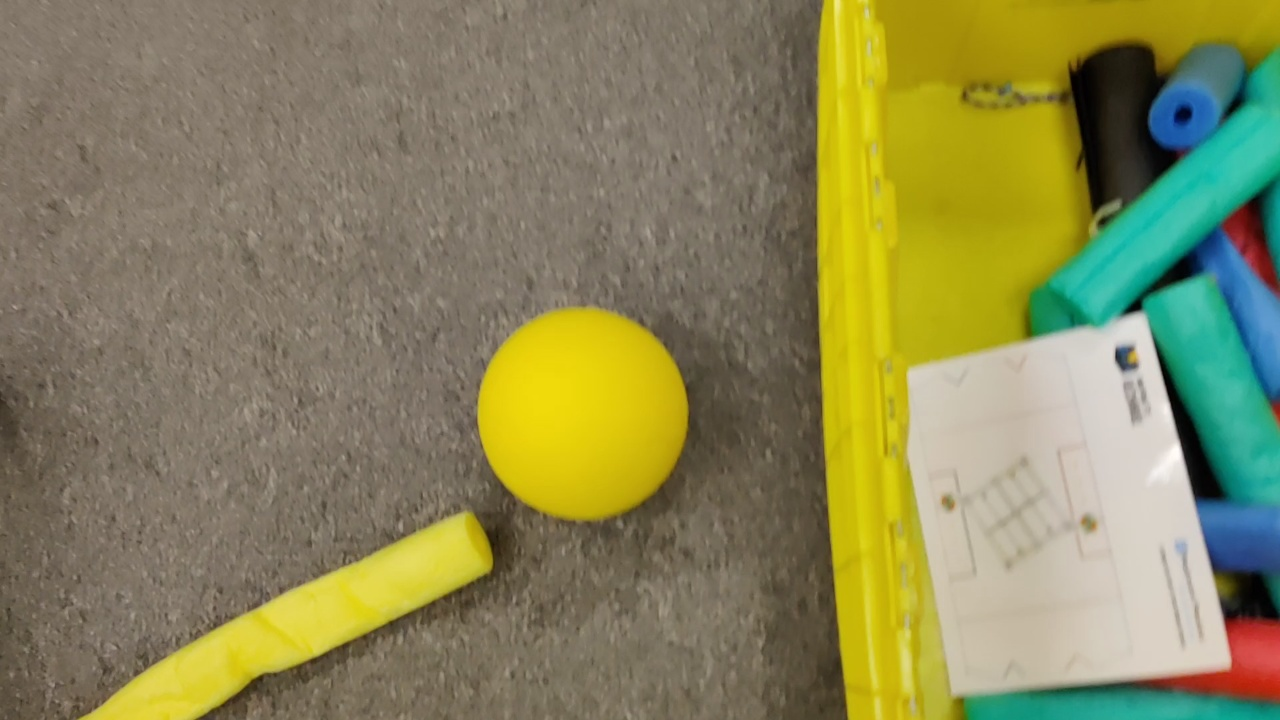Ball: (483, 310, 686, 525)
